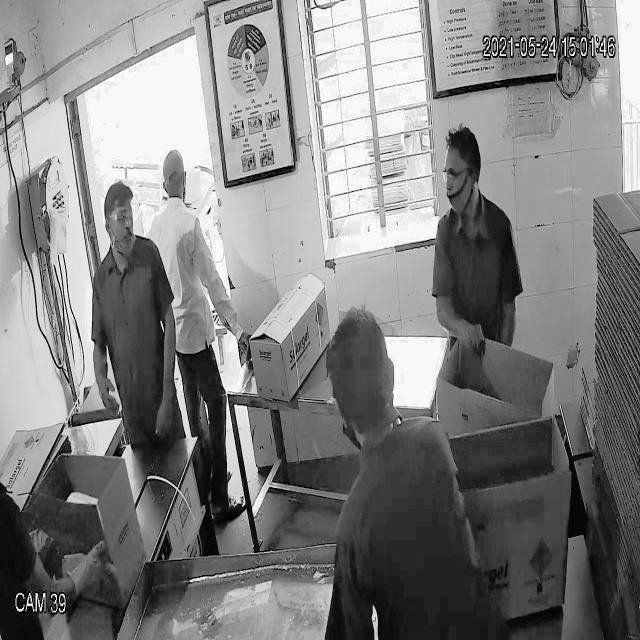Gafas: (439, 160, 476, 189), (101, 204, 138, 232)
